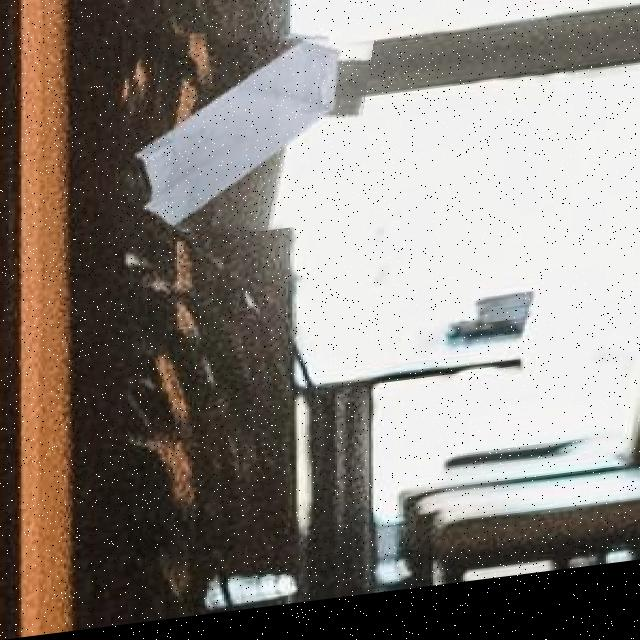litter: (115, 21, 367, 253)
